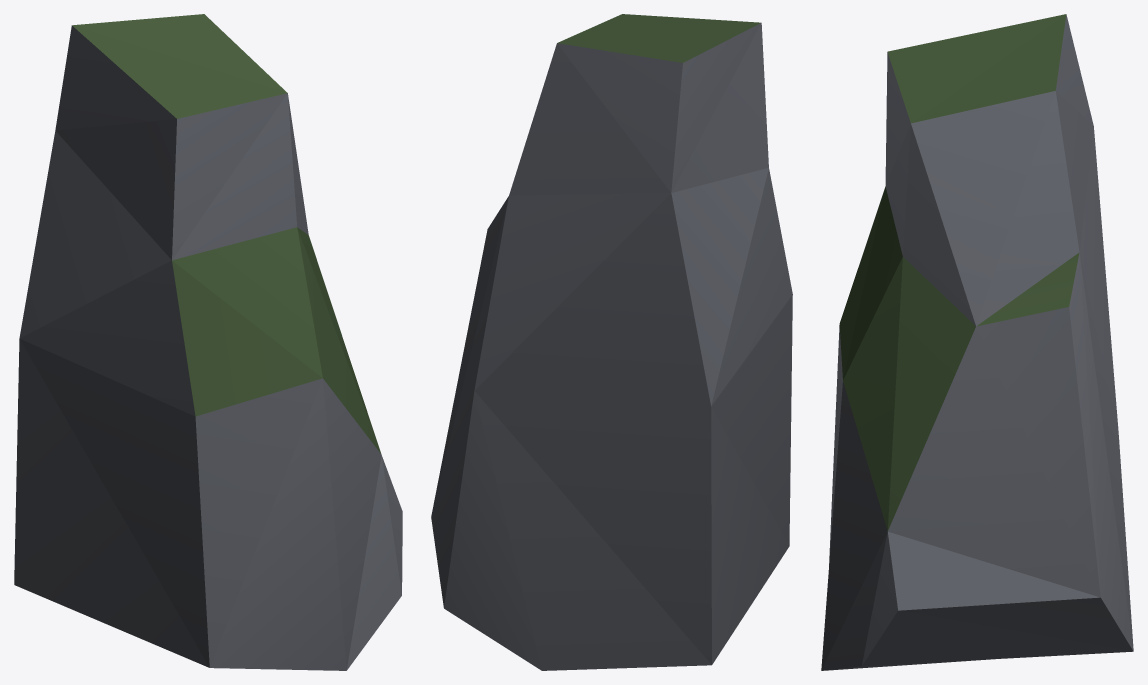
File: rock-moss-1.glb
The picture shows the model from 3 angles, left to right: view 1: azimuth 30°, elevation 25°; view 2: azimuth 150°, elevation 25°; view 3: azimuth 270°, elevation 25°; orthographic projection. The views are drawn at different scales.
Visible parts, largest first — view 1: rock-moss-1; view 2: rock-moss-1; view 3: rock-moss-1.
Part boxes in pixels (<box>): rock-moss-1: <box>14,14,402,670</box>; rock-moss-1: <box>431,14,792,670</box>; rock-moss-1: <box>821,14,1133,670</box>.
Bounding box in the file's own units: 0.6632 × 1.3 × 0.6295.
